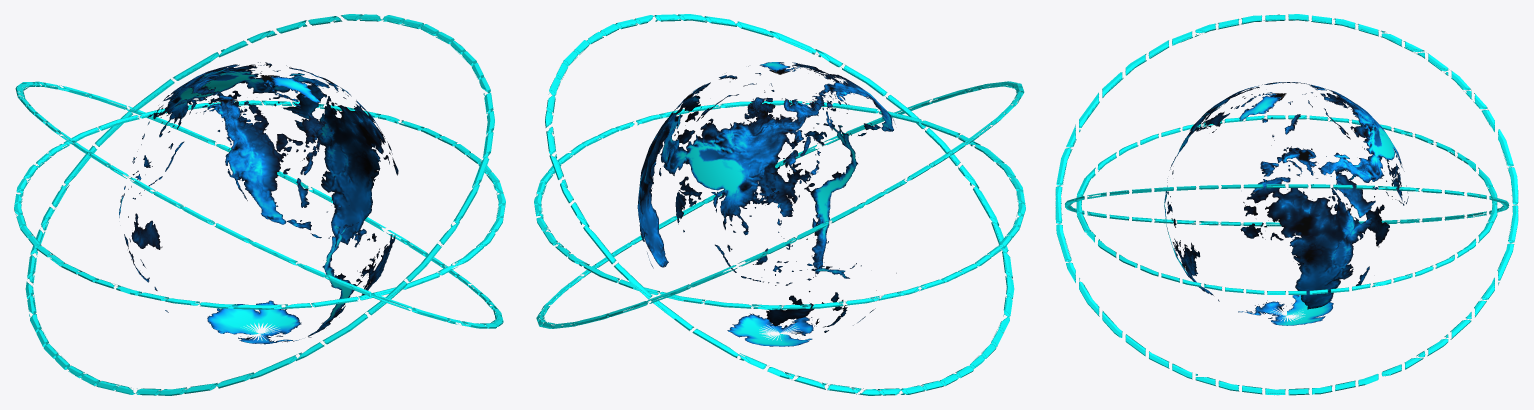
Rendered from FUT0410069.fbx.
3 views of the same model, side by side, from view 1: azimuth 30°, elevation 25°; view 2: azimuth 150°, elevation 25°; view 3: azimuth 270°, elevation 25° (orthographic). The views are drawn at different scales.
Parts seen in each view (by area): view 1: smFUT0410069; view 2: smFUT0410069; view 3: smFUT0410069.
Part boxes in pixels (x1,y1,x2,y2): smFUT0410069: (14, 14, 505, 395); smFUT0410069: (534, 14, 1025, 395); smFUT0410069: (1055, 14, 1518, 395).
Size of the model in its own units: 343 by 200 by 379.
